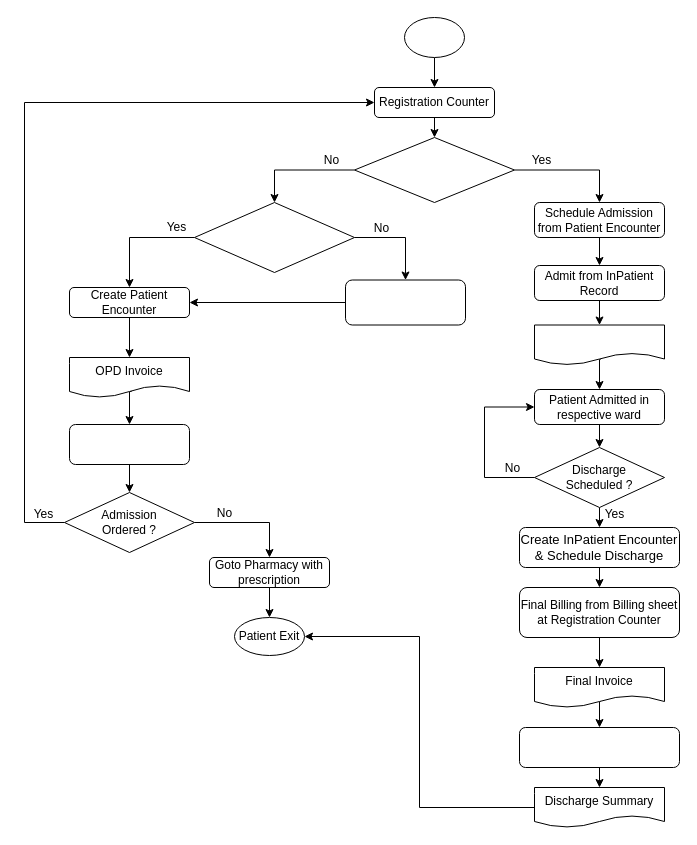
The diagram is 697 pixels wide and 845 high, and some of its shapes have lost their labels. Here are the shapes that lost their labels. From the top down, the box of each, then its label:
(404, 16, 464, 58): Patient Walks In
(354, 136, 514, 202): Admission Order? (Ward Details Ex: ICU etc)
(194, 202, 354, 272): Is Existing Patient ? (Search by Adhaar,Mobile, Name, PID)
(344, 279, 466, 325): Register New Patient (PID created with other details)
(534, 324, 664, 365): InPatient Record
(68, 424, 190, 464): Doctor Consultation
(518, 726, 680, 768): Discharge from InPatient Record with Summary
